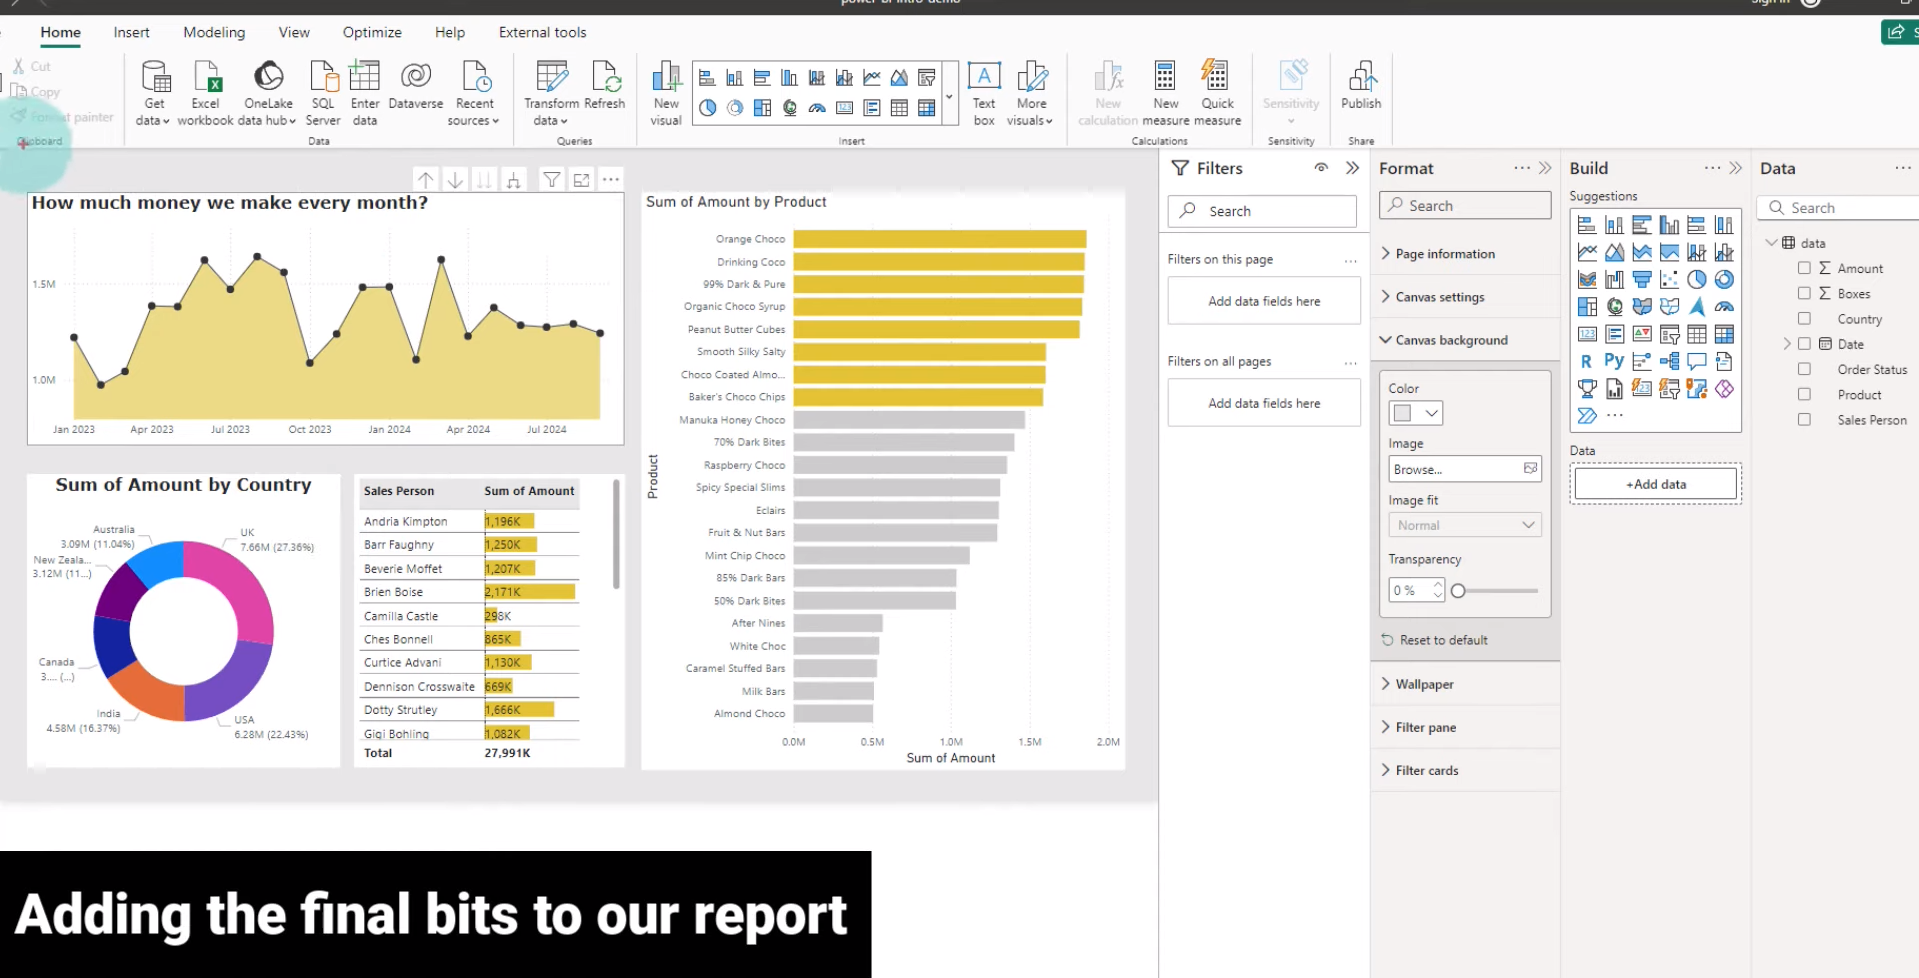

What the dashboard file says about the page in this screenshot:
{"tool":"powerbi","page":{"name":"Page 2","canvas":[1280,720],"ordinal":1},"visuals":[{"type":"lineChart","fields":{"Category":["data.Date.Variation.Date Hierarchy.Year","data.Date.Variation.Date Hierarchy.Quarter","data.Date.Variation.Date Hierarchy.Month","data.Date.Variation.Date Hierarchy.Day"],"Y":["Sum(data.Amount)"]},"box":[0,103.8,790,282.5],"z":0},{"type":"donutChart","fields":{"Category":["data.Country"],"Y":["Sum(data.Amount)"]},"box":[18.8,395,405,312.5],"z":1000},{"type":"tableEx","fields":{"Values":["data.Sales Person","Sum(data.Amount)"]},"box":[455,395,335,325],"z":2000},{"type":"clusteredBarChart","fields":{"Category":["data.Product"],"Y":["Sum(data.Amount)"]},"box":[808.8,103.8,471.2,616.2],"z":3000},{"type":"cardVisual","fields":{"Data":["Sum(data.Amount)","Sum(data.Boxes)"]},"box":[346.2,0,443.8,103.8],"z":4000},{"type":"slicer","fields":{"Values":["data.Date"]},"box":[808.8,5,471.2,90],"z":5000},{"type":"textbox","box":[8.8,5,327.5,63.8],"z":6000}]}

Visuals, with their boxes on the page's 1280x720 design canvas (x1, y1, x2, y2). These are canvas units, not pixel positions in the 1919x978 screenshot, which may show the page scaled, cropped or inside an application window:
lineChart - data.Date.Variation.Date Hierarchy.Year x data.Date.Variation.Date Hierarchy.Quarter: (0,104,790,386)
donutChart - data.Country x Sum(data.Amount): (19,395,424,708)
tableEx - data.Sales Person x Sum(data.Amount): (455,395,790,720)
clusteredBarChart - data.Product x Sum(data.Amount): (809,104,1280,720)
cardVisual - Sum(data.Amount) x Sum(data.Boxes): (346,0,790,104)
slicer - data.Date: (809,5,1280,95)
textbox: (9,5,336,69)
